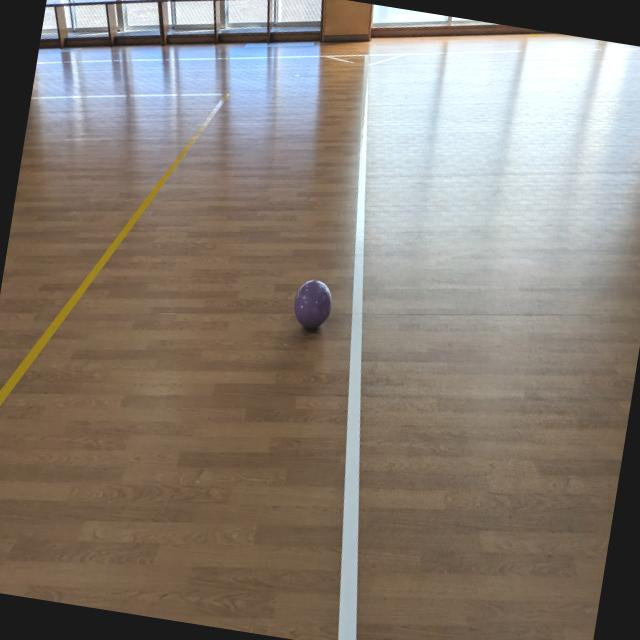purple_ball: (290, 274, 336, 334)
